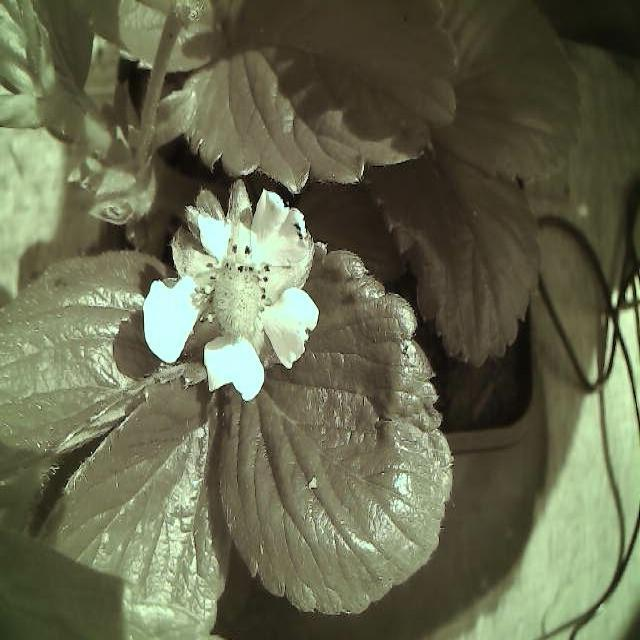flower: (138, 186, 326, 407)
